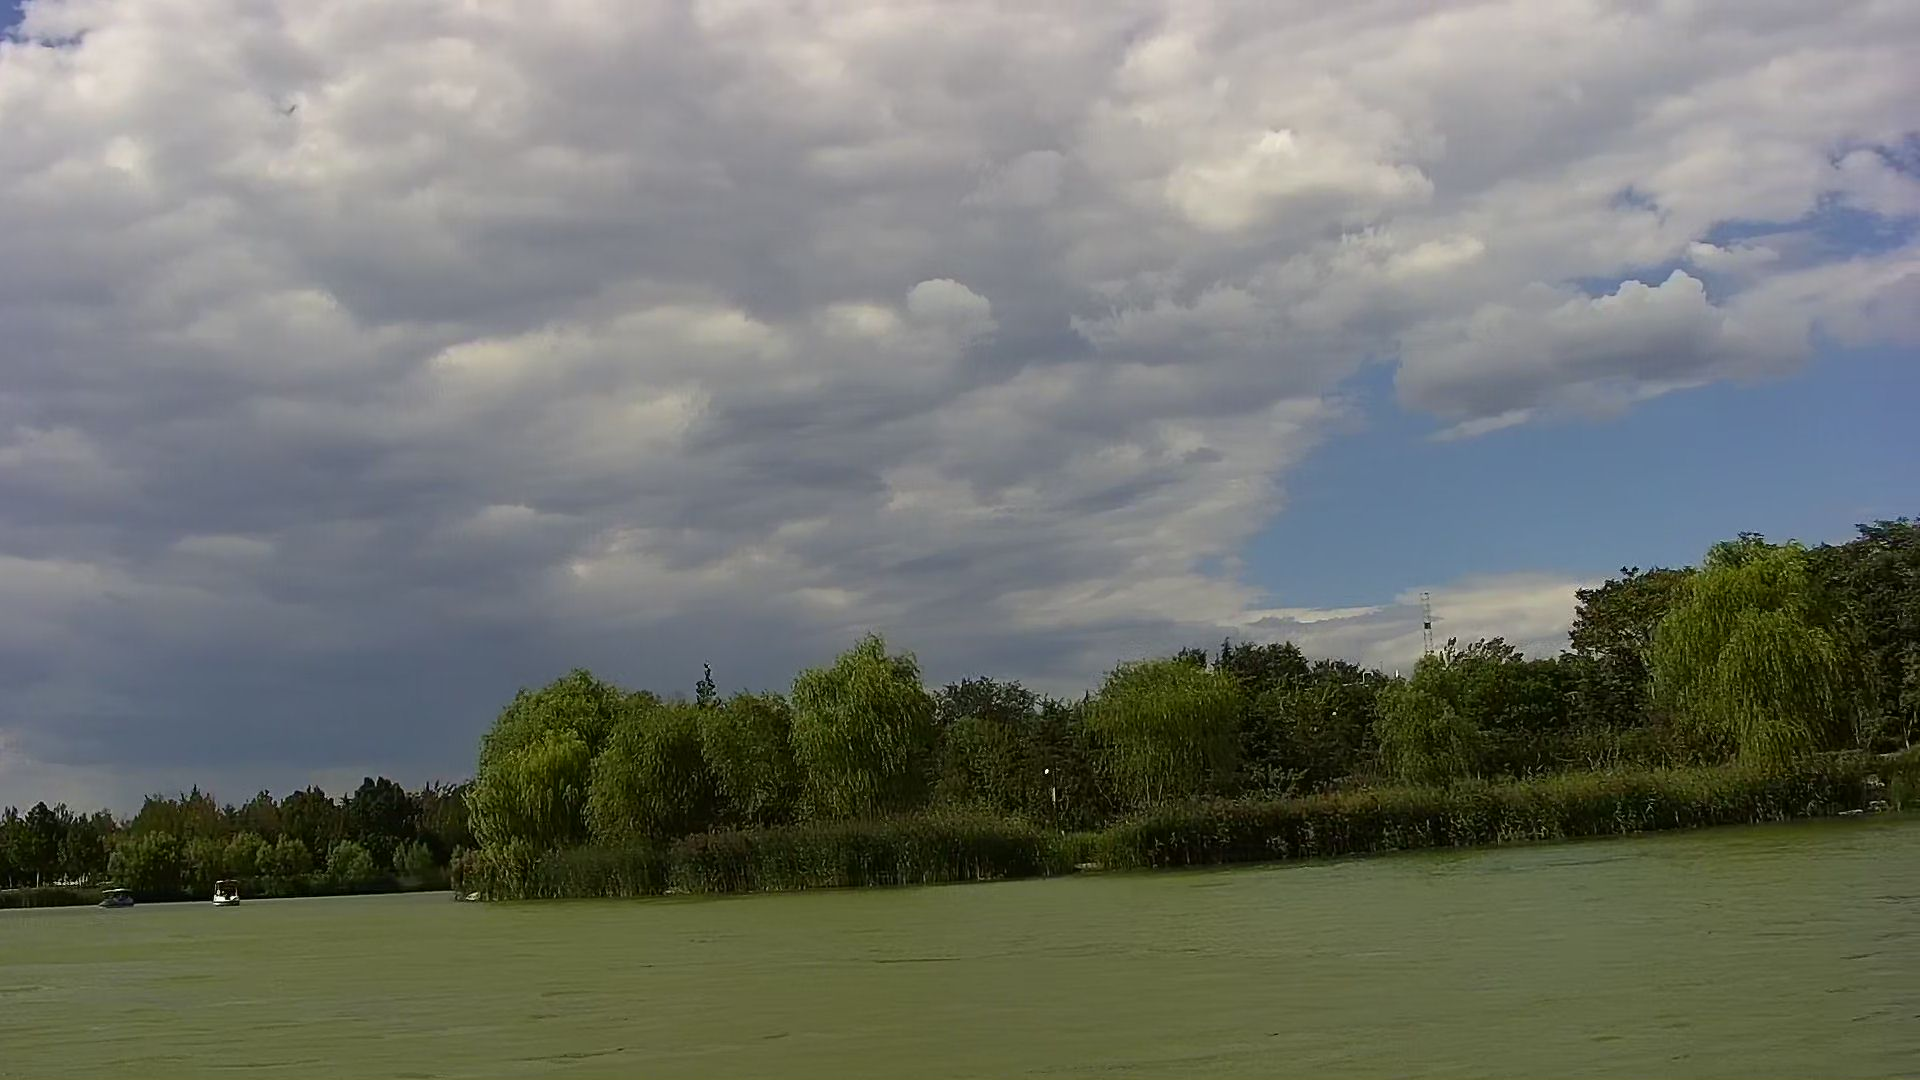boat: (207, 878, 243, 910), (94, 889, 138, 910)
